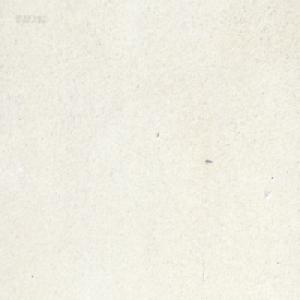Nail: (205, 158, 212, 163)
